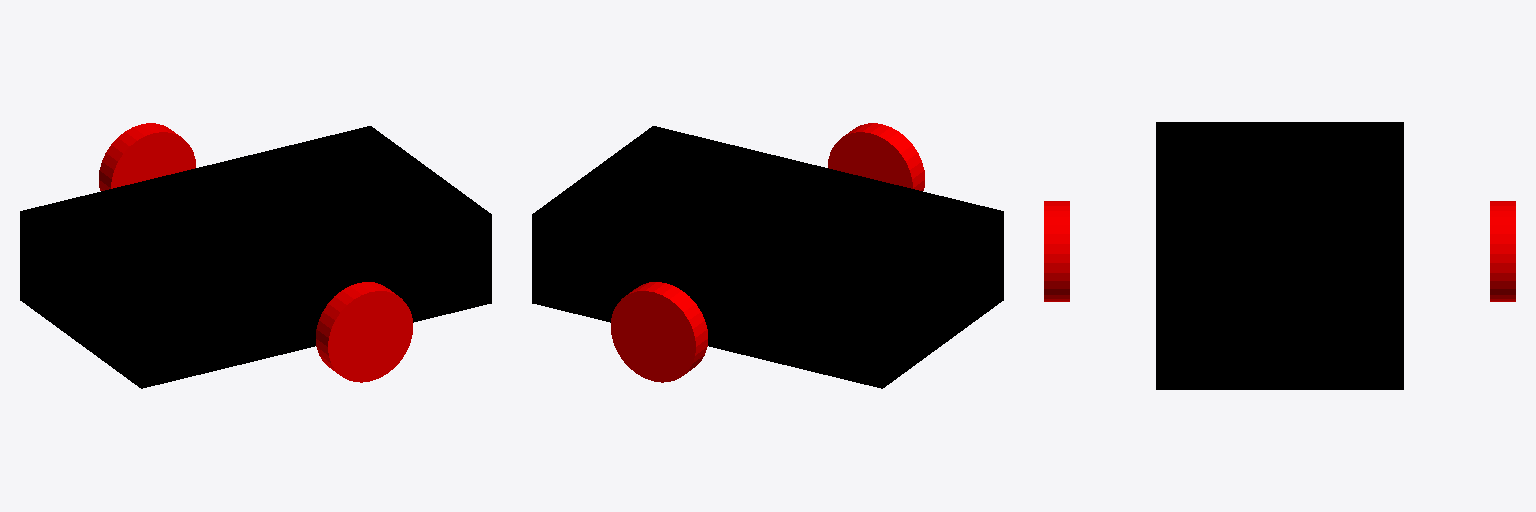
robot.urdf — AGV:
<robot name="AGV">
    <link name="base_link">
        <visual>
            <geometry>
                <box size="0.82 .49 .2"/>
            </geometry>
            <origin rpy="0 0 0" xyz="0 0 0.01"/>
            <material name="gray">
                <color rgba="0 0 0 0.6"/>
            </material>
        </visual>
    </link>

    <link name="wheel_left">
        <visual>
            <geometry>
                <cylinder length="0.05" radius="0.1"/>
            </geometry>
            <origin rpy="1.57079633 0 0" xyz="0 -0.22 0.01"/>
            <material name="black">
                <color rgba="1 0 0 1"/>
            </material>
        </visual>
    </link>

    <link name="wheel_right">
        <visual>
            <geometry>
                <cylinder length="0.05" radius="0.1"/>
            </geometry>
            <origin rpy="1.57079633 0 0" xyz="0 0.22 0.01"/>
            <material name="black"/>
        </visual>
    </link>

    <joint name="base_to_wheel_left" type="continuous">
        <parent link="base_link"/>
        <child link="wheel_left"/>
        <origin xyz="0 -0.22 0.01"/>
        <axis xyz="1 0 0"/>
    </joint>

    <joint name="base_to_wheel_right" type="continuous">
        <parent link="base_link"/>
        <child link="wheel_right"/>     
        <origin xyz="0 0.22 0.01"/>
        <axis xyz="1 0 0"/>
    </joint>
  </robot>

--- Render facts (derived) ---
3 views of the same robot in one strip: view 1: azimuth 30°, elevation 25°; view 2: azimuth 150°, elevation 25°; view 3: azimuth 270°, elevation 25° (orthographic).
Model AGV with 3 links and 2 joints (2 continuous), rooted at base_link, posed all joints at 0.
Links seen in each view (by area): view 1: base_link, wheel_left, wheel_right; view 2: base_link, wheel_right, wheel_left; view 3: base_link, wheel_left, wheel_right.
Link boxes in pixels (left/top/right/bottom): base_link: left=20, top=126, right=491, bottom=388; wheel_left: left=316, top=282, right=412, bottom=382; wheel_right: left=99, top=123, right=195, bottom=190; base_link: left=532, top=126, right=1003, bottom=388; wheel_right: left=611, top=282, right=707, bottom=382; wheel_left: left=828, top=123, right=924, bottom=190; base_link: left=1156, top=122, right=1403, bottom=389; wheel_left: left=1044, top=201, right=1069, bottom=301; wheel_right: left=1490, top=201, right=1515, bottom=301.
Bounding box of the posed robot: 0.82 × 0.93 × 0.21 m (x, y, z).
Geometry: primitives only (box / cylinder / sphere), no mesh files.